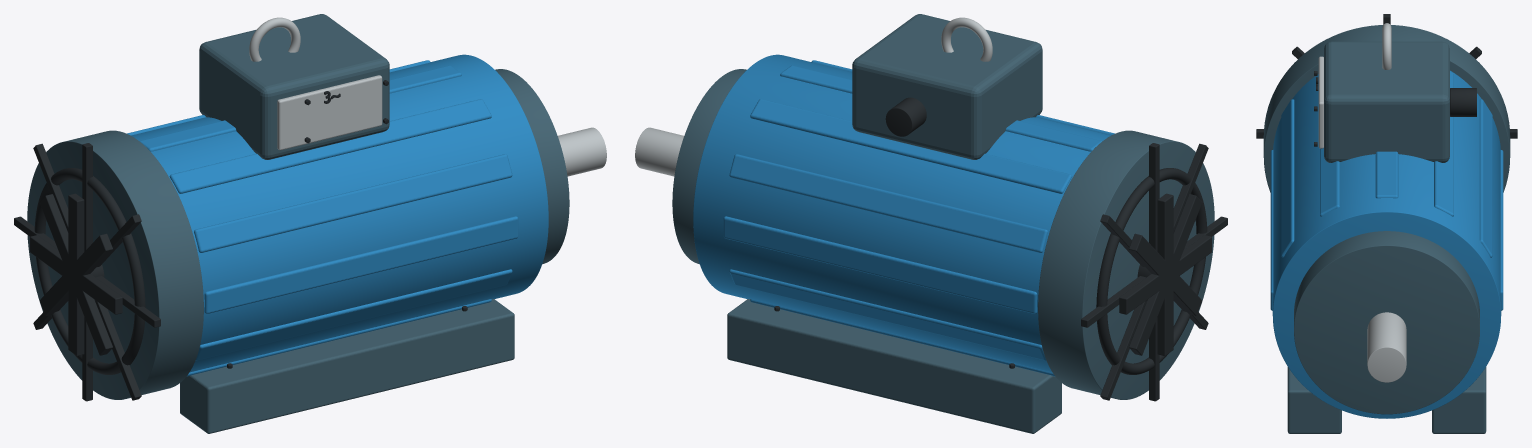
Rendered from ac_induction_motor.glb.
3 views of the same model, side by side, from view 1: azimuth 30°, elevation 25°; view 2: azimuth 150°, elevation 25°; view 3: azimuth 270°, elevation 25° (orthographic). The views are drawn at different scales.
Visible parts, largest first — view 1: MOTOR_stator_body, MOTOR_fan_cowl, MOTOR_foot_L, MOTOR_terminal_box, MOTOR_axial_fin_5, MOTOR_axial_fin_6, MOTOR_axial_fin_4, MOTOR_terminal_lid, MOTOR_axial_fin_7, MOTOR_drive_end, MOTOR_fan_grille, MOTOR_axial_fin_3 (+16 smaller); view 2: MOTOR_stator_body, MOTOR_fan_cowl, MOTOR_foot_R, MOTOR_terminal_box, MOTOR_axial_fin_1, MOTOR_axial_fin_0, MOTOR_axial_fin_2, MOTOR_axial_fin_11, MOTOR_drive_end, MOTOR_fan_grille, MOTOR_axial_fin_3, KIN_motor_shaft (+16 smaller); view 3: MOTOR_stator_body, MOTOR_drive_end, MOTOR_terminal_box, MOTOR_fan_cowl, KIN_motor_shaft, MOTOR_foot_L, MOTOR_foot_R, MOTOR_axial_fin_1, MOTOR_axial_fin_5, MOTOR_axial_fin_2, MOTOR_axial_fin_3, MOTOR_axial_fin_4 (+5 smaller).
Boxes of the visible parts, bbox=[...] form: MOTOR_stator_body: bbox=[131, 54, 548, 372]; MOTOR_fan_cowl: bbox=[27, 130, 203, 399]; MOTOR_foot_L: bbox=[180, 299, 514, 433]; MOTOR_terminal_box: bbox=[199, 14, 389, 159]; MOTOR_axial_fin_5: bbox=[194, 154, 512, 252]; MOTOR_axial_fin_6: bbox=[204, 216, 518, 313]; MOTOR_axial_fin_4: bbox=[169, 99, 491, 193]; MOTOR_terminal_lid: bbox=[277, 75, 382, 150]; MOTOR_axial_fin_7: bbox=[195, 269, 512, 360]; MOTOR_drive_end: bbox=[495, 69, 569, 263]; MOTOR_fan_grille: bbox=[34, 168, 145, 374]; MOTOR_axial_fin_3: bbox=[140, 65, 461, 151]; MOTOR_stator_body: bbox=[693, 54, 1110, 372]; MOTOR_fan_cowl: bbox=[1038, 130, 1214, 399]; MOTOR_foot_R: bbox=[727, 299, 1061, 433]; MOTOR_terminal_box: bbox=[852, 14, 1042, 159]; MOTOR_axial_fin_1: bbox=[729, 154, 1047, 252]; MOTOR_axial_fin_0: bbox=[723, 216, 1037, 313]; MOTOR_axial_fin_2: bbox=[750, 99, 1072, 193]; MOTOR_axial_fin_11: bbox=[729, 269, 1046, 360]; MOTOR_drive_end: bbox=[672, 69, 746, 263]; MOTOR_fan_grille: bbox=[1096, 168, 1207, 374]; MOTOR_axial_fin_3: bbox=[780, 65, 1101, 151]; KIN_motor_shaft: bbox=[635, 127, 683, 176]; MOTOR_stator_body: bbox=[1272, 70, 1501, 418]; MOTOR_drive_end: bbox=[1294, 231, 1479, 414]; MOTOR_terminal_box: bbox=[1324, 41, 1449, 162]; MOTOR_fan_cowl: bbox=[1263, 25, 1510, 192]; KIN_motor_shaft: bbox=[1367, 312, 1406, 382]; MOTOR_foot_L: bbox=[1287, 367, 1341, 433]; MOTOR_foot_R: bbox=[1432, 367, 1486, 433]; MOTOR_axial_fin_1: bbox=[1479, 99, 1492, 257]; MOTOR_axial_fin_5: bbox=[1281, 99, 1294, 257]; MOTOR_axial_fin_2: bbox=[1434, 71, 1453, 216]; MOTOR_axial_fin_3: bbox=[1375, 151, 1398, 198]; MOTOR_axial_fin_4: bbox=[1320, 148, 1339, 216].
Bounding box in the file's own units: 1.87 × 1.19 × 0.87.
